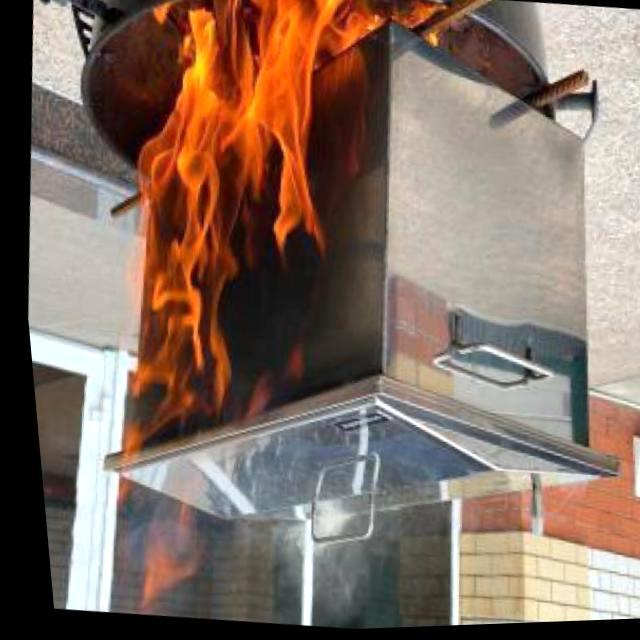fire: (76, 0, 362, 418), (234, 477, 438, 635)
